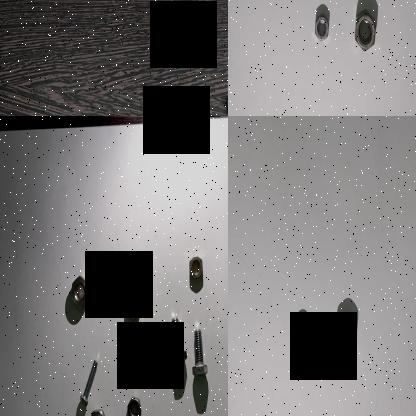Bolts: (166, 310, 190, 374), (76, 352, 100, 412), (188, 320, 208, 382), (162, 105, 183, 116)
NUTS: (350, 10, 378, 54), (332, 314, 358, 360), (184, 249, 208, 286), (68, 271, 90, 311), (292, 316, 312, 350), (313, 10, 330, 44), (123, 390, 143, 416), (125, 296, 141, 324), (88, 406, 108, 416)
